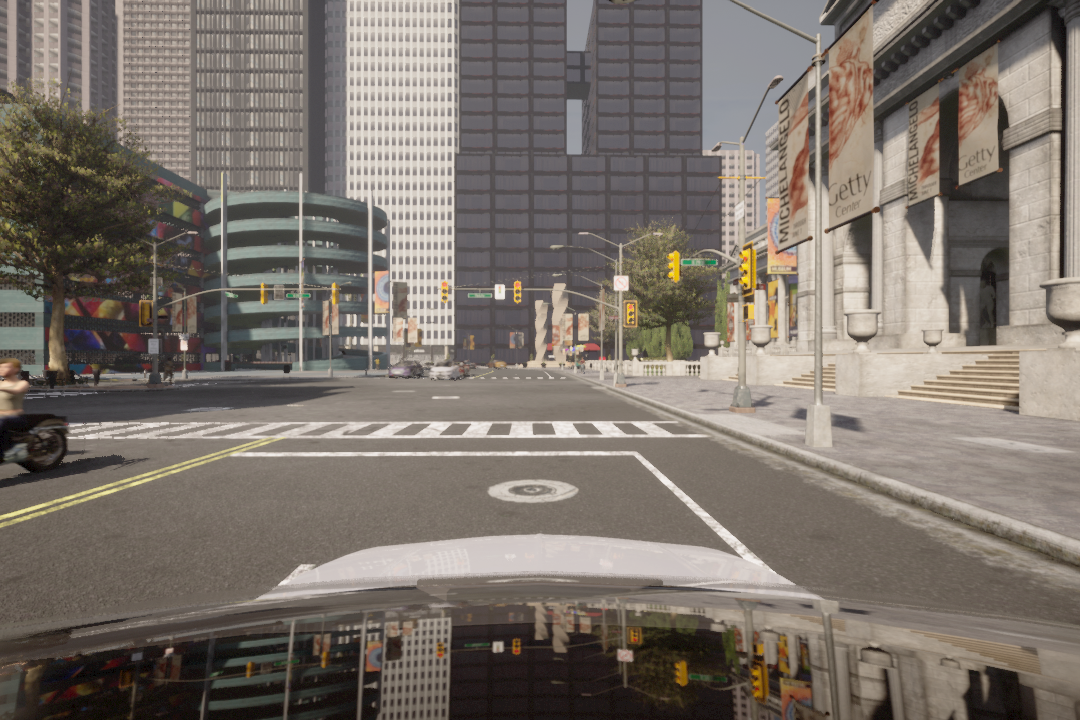TrafficLight: (739, 243, 757, 293), (665, 248, 681, 285), (511, 279, 524, 304), (624, 302, 637, 327), (440, 280, 447, 304)
TrafficSign: (614, 277, 628, 290)
walkside: (58, 417, 726, 443)
